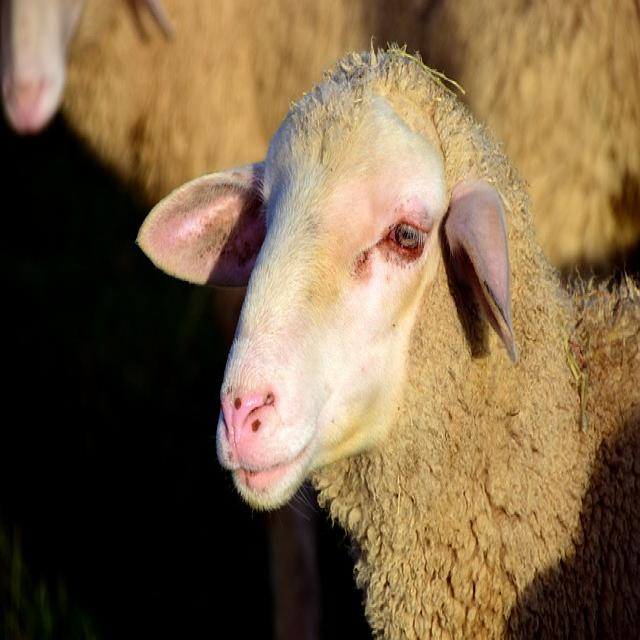goat: (140, 45, 640, 640)
